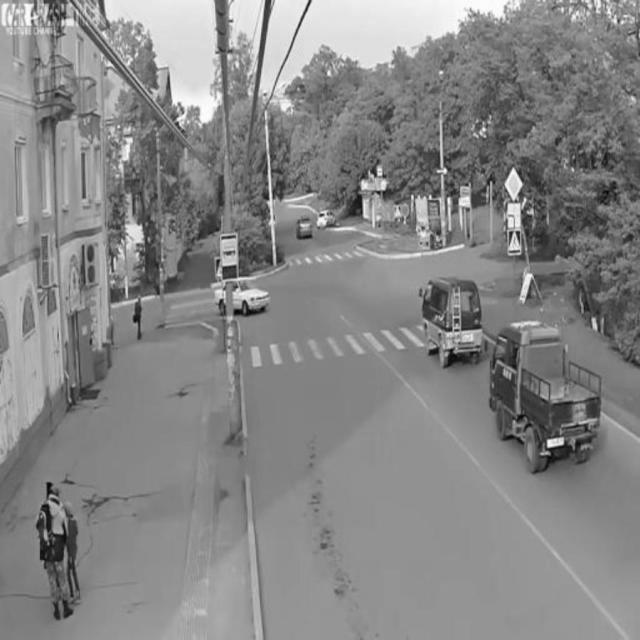person: (35, 483, 71, 627), (62, 500, 87, 606), (130, 295, 146, 345)
vehicle: (487, 334, 601, 471), (420, 277, 484, 367), (211, 274, 271, 316), (295, 213, 315, 241), (314, 209, 340, 229)
